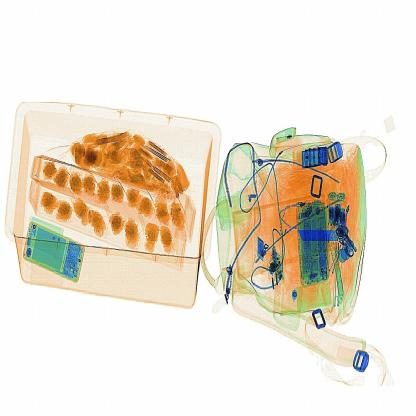pliers: (300, 223, 342, 251)
